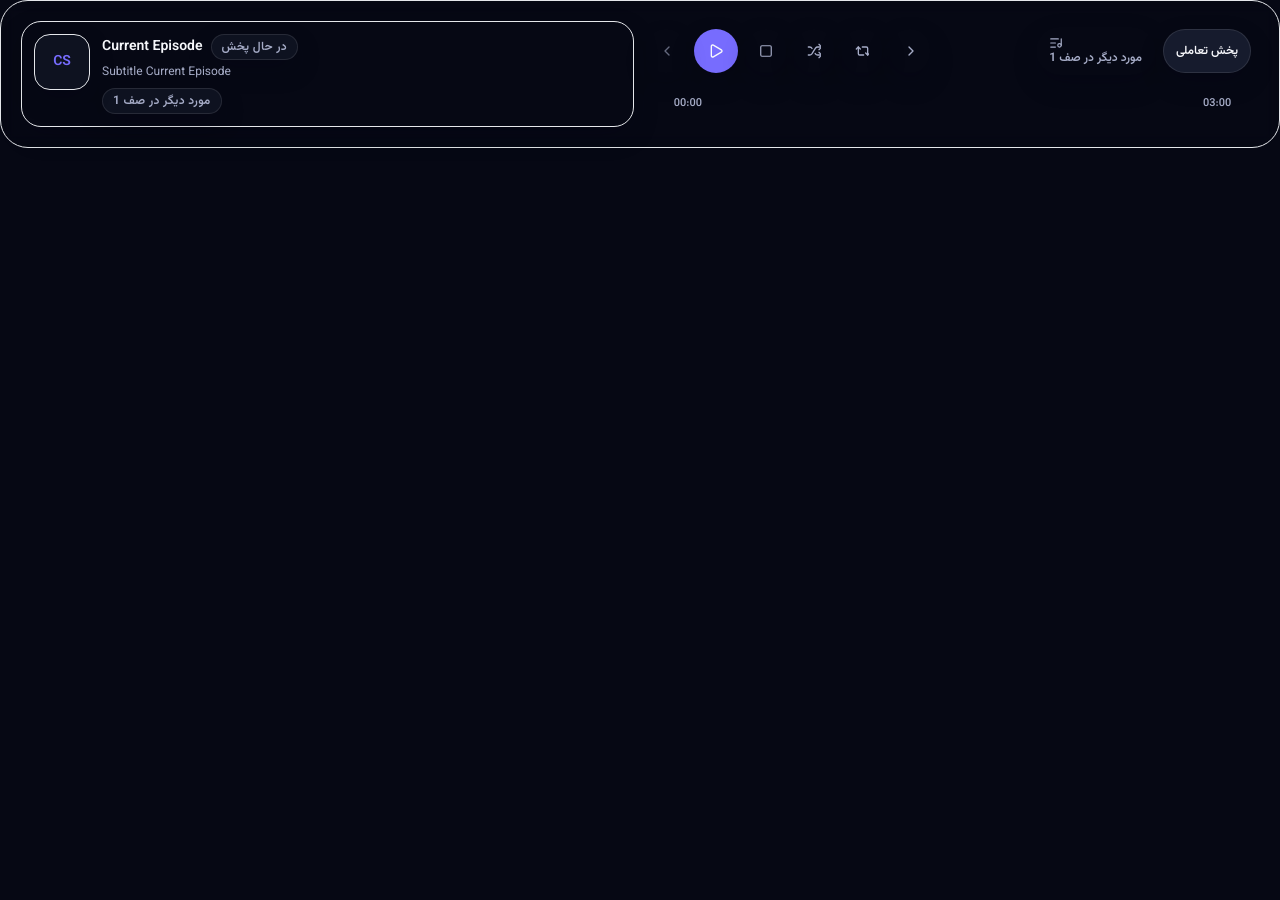
Test case: PlayerBar › opens the immersive player experience from the compact bar
The width and height of the screenshot is (1280, 900).
Click the button with aria-label "گسترش پخش‌کننده".
click(1207, 51)  # box [1163,29,1251,73]
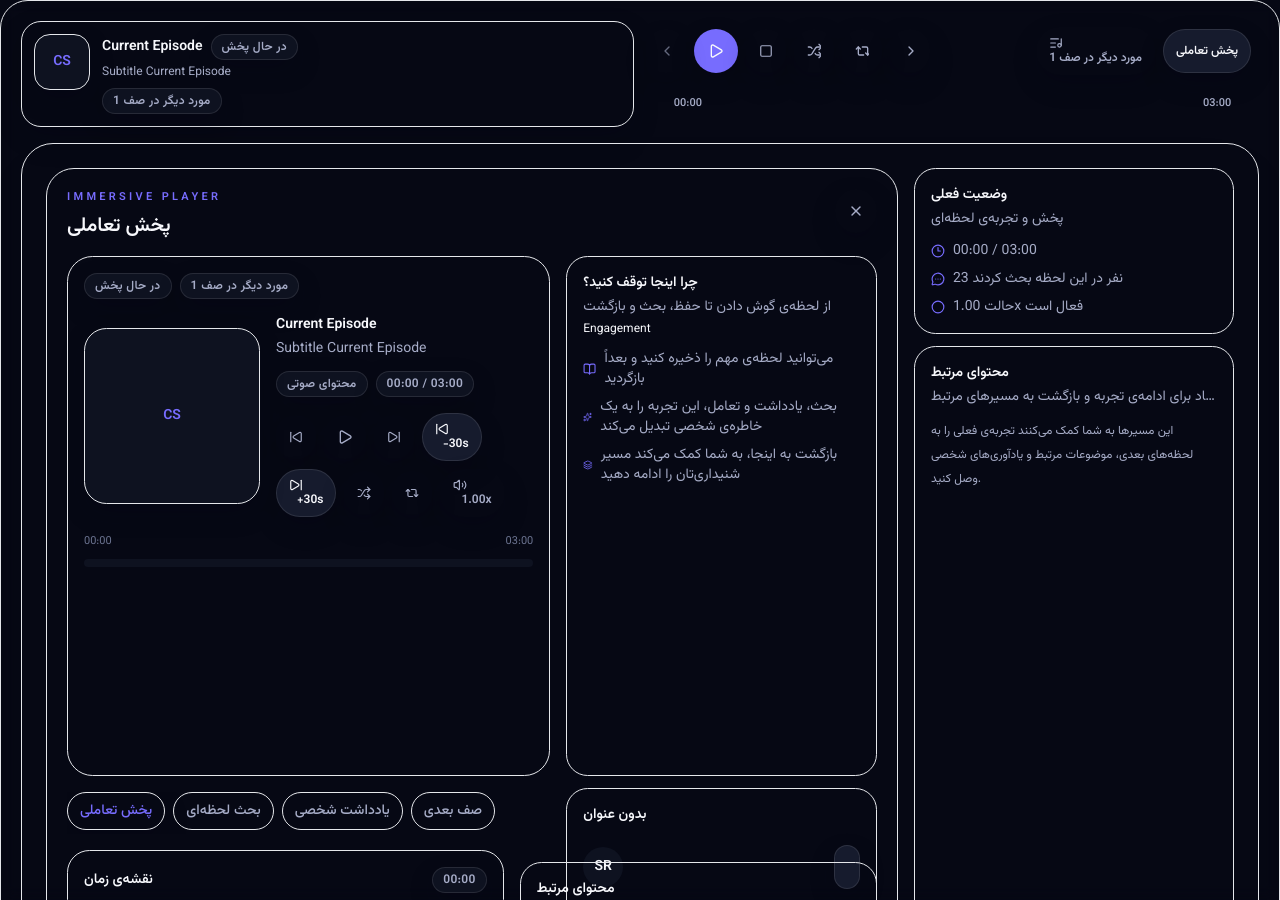
Expected: the text "پخش تعاملی" is shown, [1176,43,1238,59]
Now the text "بحث لحظه‌ای" is shown, box [173,792,274,830]
